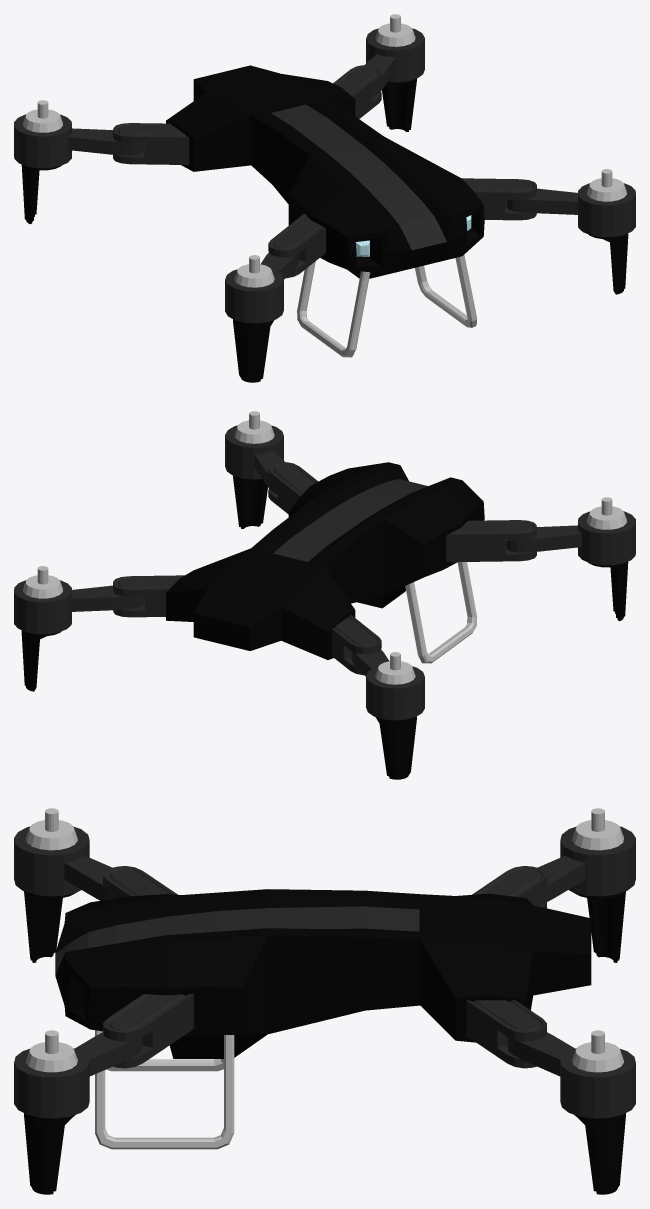
Rendered from drone_body.glb.
The picture shows the model from 3 angles, top to bottom: view 1: azimuth 30°, elevation 25°; view 2: azimuth 150°, elevation 25°; view 3: azimuth 270°, elevation 25°; orthographic projection. The views are drawn at different scales.
Parts seen in each view (by area): view 1: Body; view 2: Body; view 3: Body.
Boxes of the visible parts, x1=… form: Body: x1=14, y1=14, x2=635, y2=382; Body: x1=14, y1=411, x2=635, y2=779; Body: x1=14, y1=808, x2=635, y2=1194.
Size of the model in its own units: 0.5736 by 0.2076 by 0.5934.
Materials: 1 (1 with a texture image).
